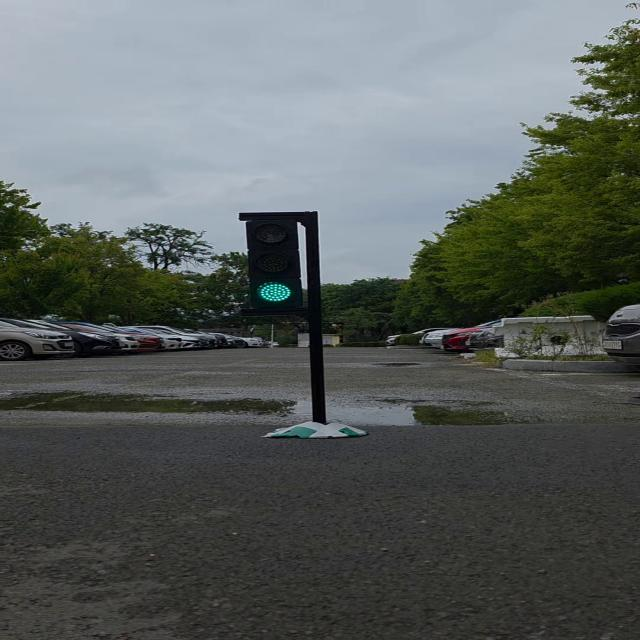green: (244, 213, 317, 314)
